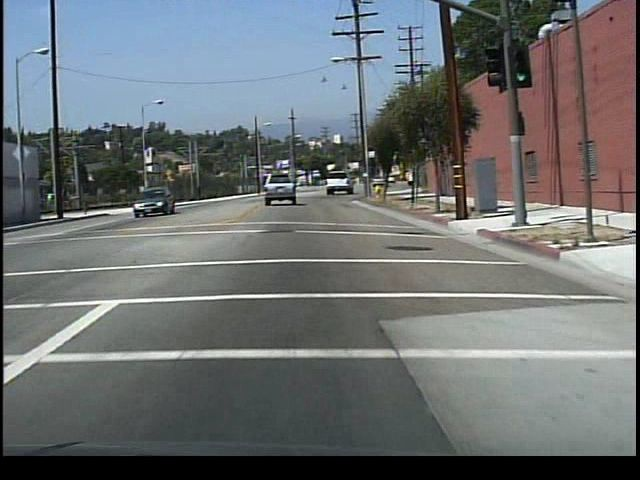person: (195, 183, 206, 204)
